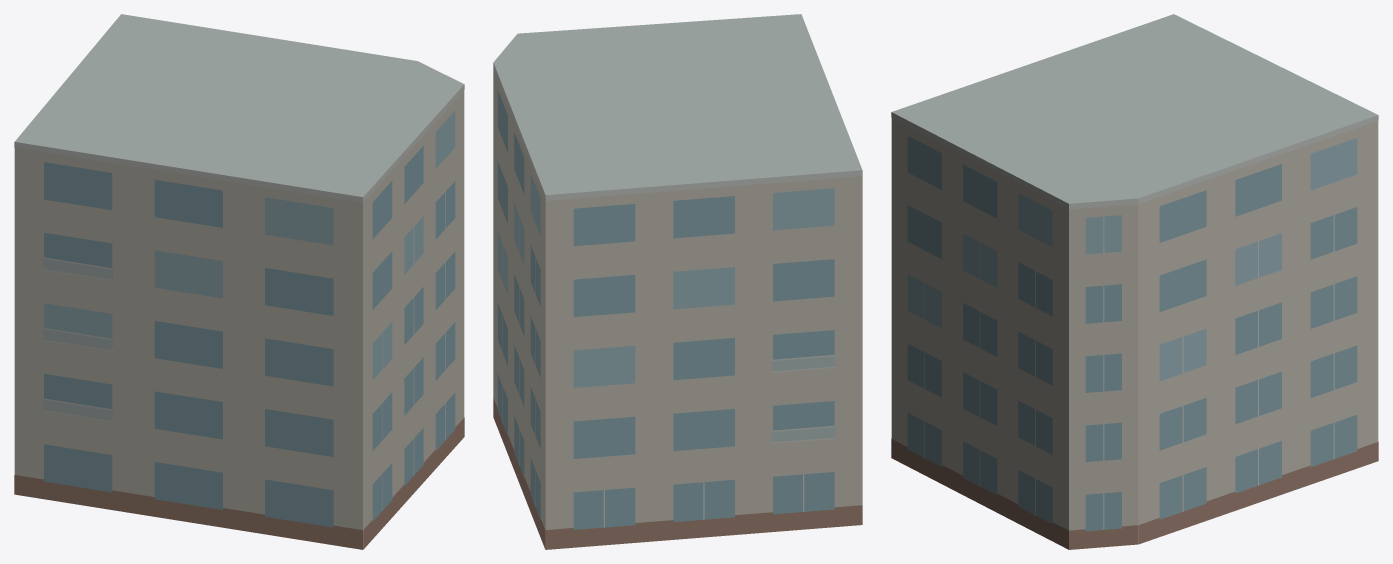
Rendered from survey-upis-32970357.glb.
3 views of the same model, side by side, from view 1: azimuth 30°, elevation 25°; view 2: azimuth 150°, elevation 25°; view 3: azimuth 270°, elevation 25° (orthographic). The views are drawn at different scales.
Parts seen in each view (by area): view 1: survey-upis-32970357.tmp; view 2: survey-upis-32970357.tmp; view 3: survey-upis-32970357.tmp.
Boxes of the visible parts, box(x1,y1,x2,y2) form: survey-upis-32970357.tmp: box(14, 14, 464, 549); survey-upis-32970357.tmp: box(493, 14, 862, 549); survey-upis-32970357.tmp: box(891, 14, 1378, 549).
Bounding box in the file's own units: 17.66 × 15 × 19.14.
